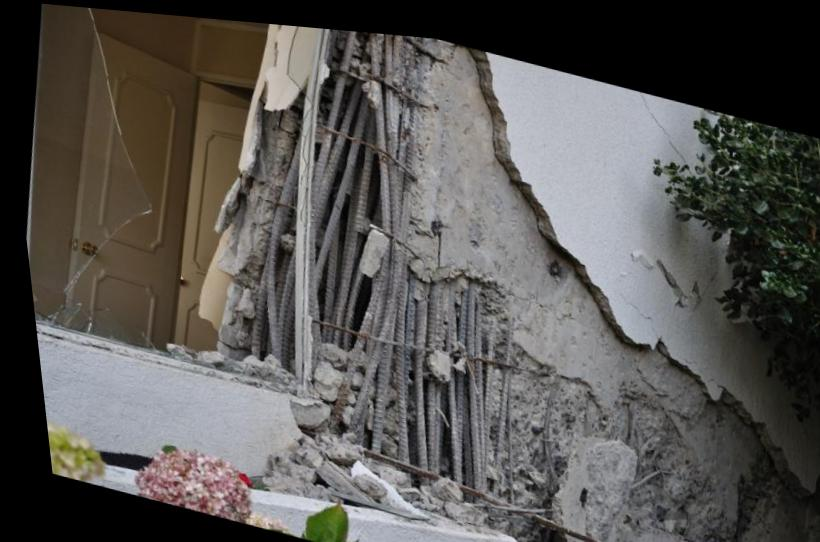crack: (624, 241, 711, 297), (638, 80, 683, 150), (494, 276, 569, 312), (616, 284, 652, 328), (669, 343, 716, 376)
